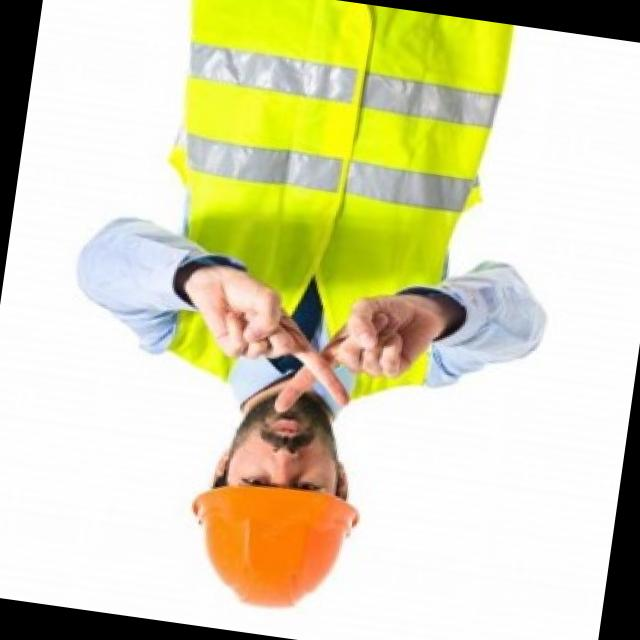not-gloved: (282, 274, 452, 434)
